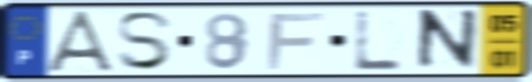8: (202, 10, 252, 71)
A: (42, 9, 123, 75)
F: (264, 11, 328, 72)
L: (351, 9, 406, 73)
N: (412, 7, 481, 74)
S: (114, 10, 178, 74)
